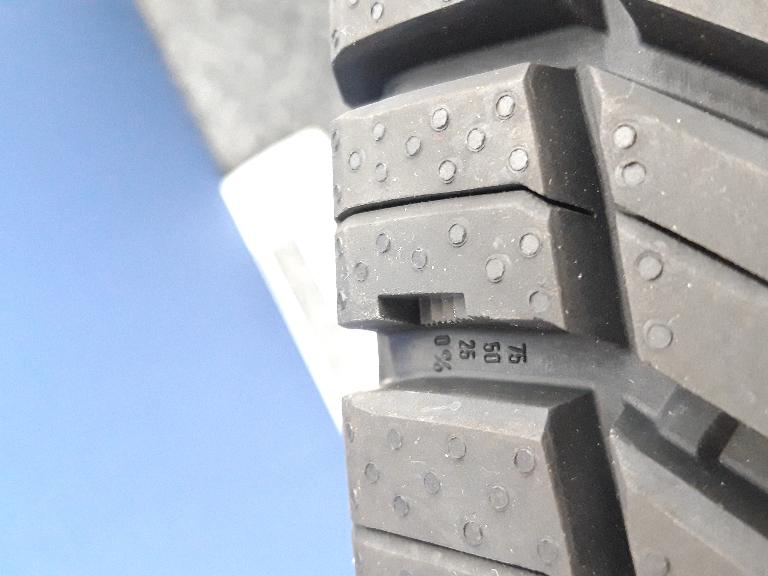temoin:100: (376, 291, 494, 331)
